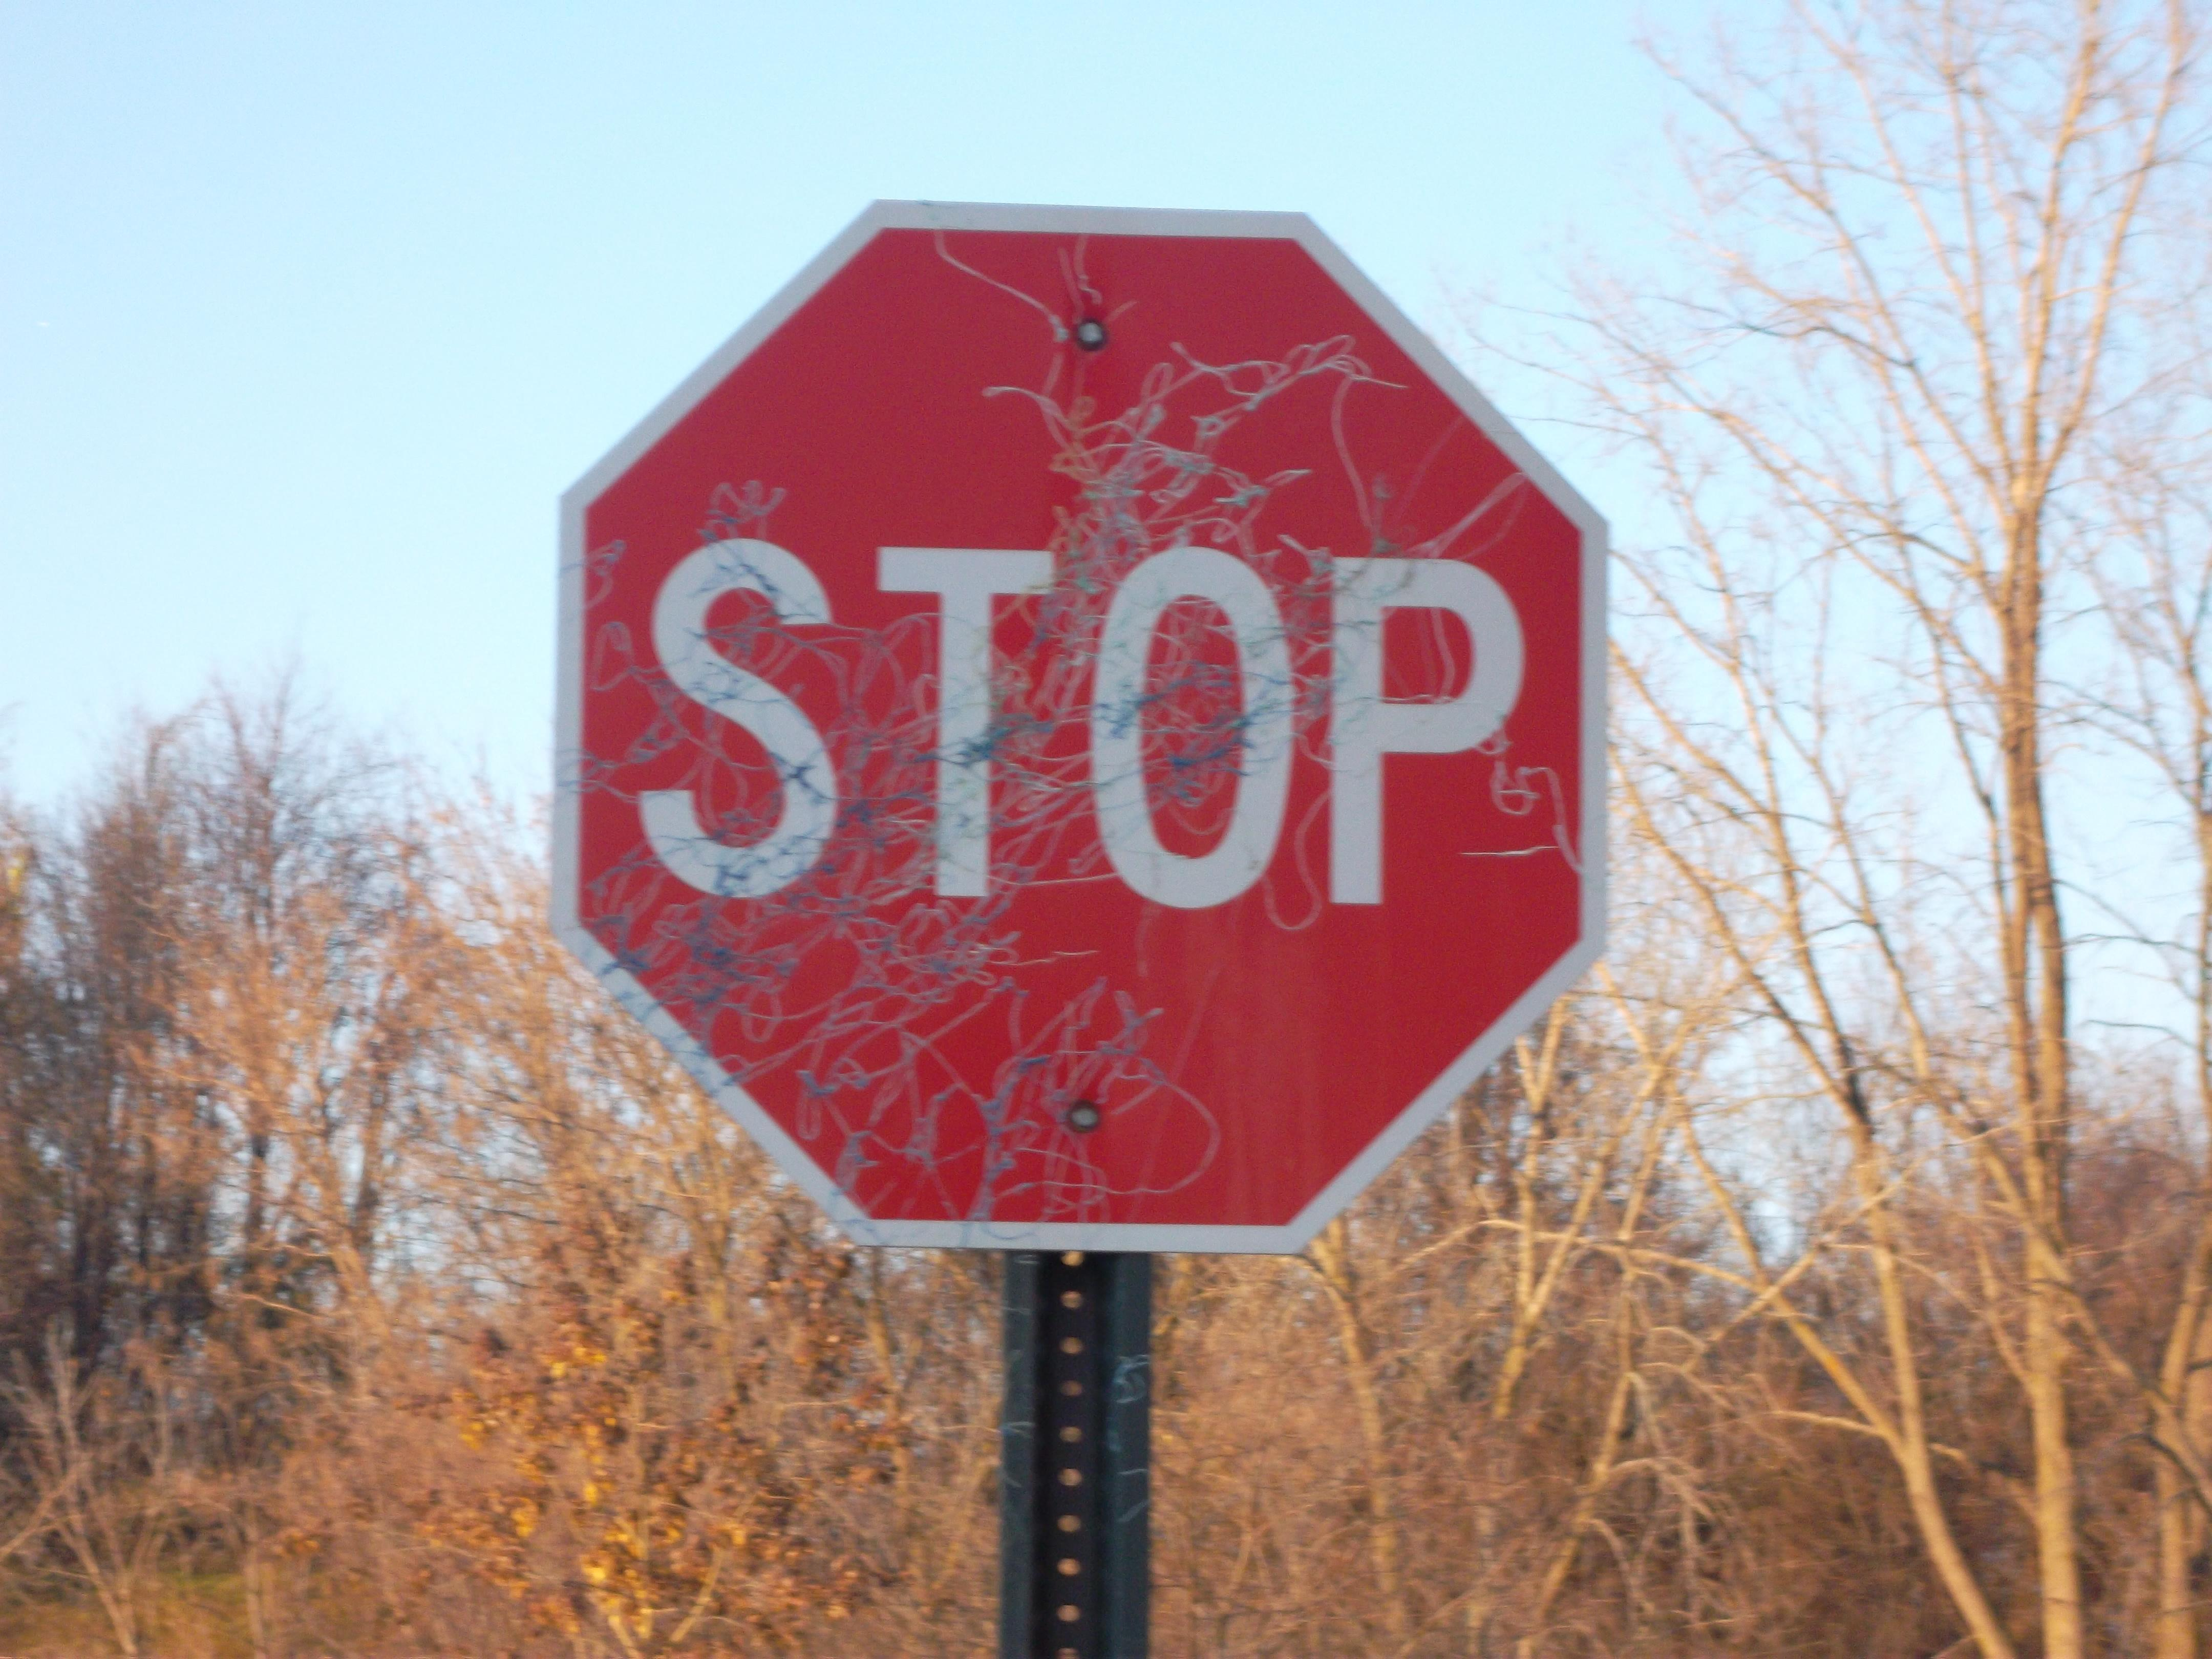stop: (531, 171, 1629, 1286)
